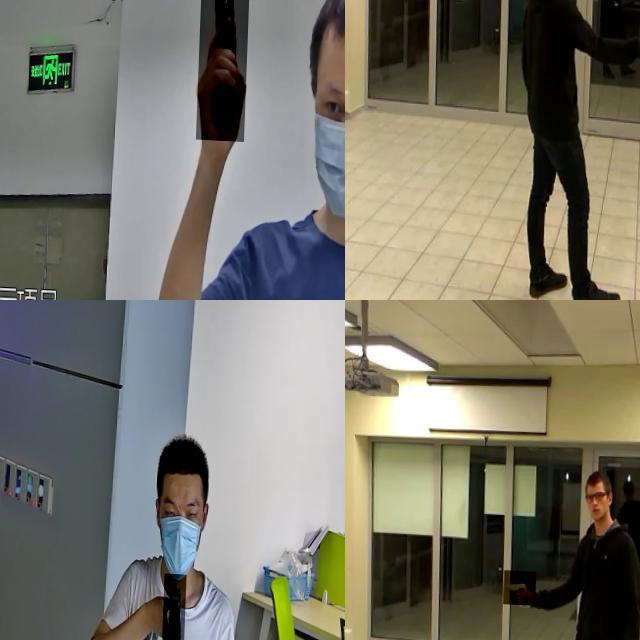gun-knife-thesis - v11 Yolov5 augmented: (199, 0, 253, 138), (163, 570, 189, 640), (506, 568, 539, 602)
